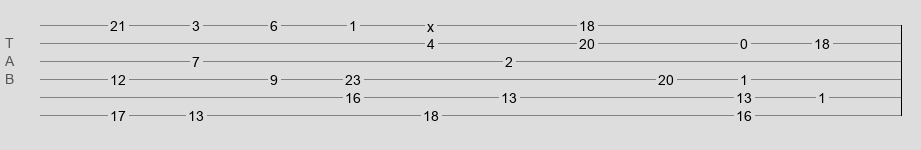0: (740, 36, 748, 46)
1: (349, 18, 357, 28), (740, 72, 748, 82), (818, 90, 826, 100)
12: (110, 72, 126, 82)
13: (188, 108, 204, 118), (501, 90, 517, 100), (736, 90, 752, 100)
16: (345, 90, 361, 100), (736, 108, 752, 118)
17: (110, 108, 126, 118)
18: (423, 108, 439, 118), (579, 18, 595, 28), (814, 36, 830, 46)
2: (505, 54, 513, 64)
20: (579, 36, 595, 46), (658, 72, 674, 82)
21: (110, 18, 126, 28)
23: (345, 72, 361, 82)
3: (192, 18, 200, 28)
4: (427, 36, 435, 46)
6: (270, 18, 278, 28)
7: (192, 54, 200, 64)
9: (270, 72, 278, 82)
x: (427, 19, 434, 27)
